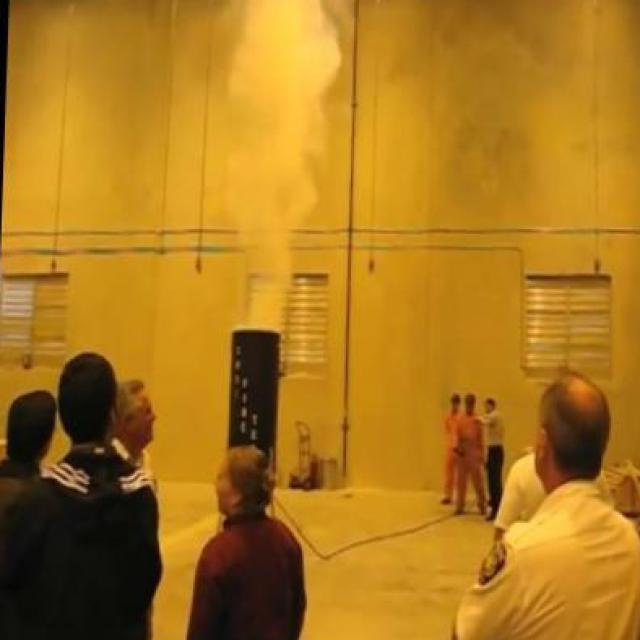fire: (218, 0, 351, 315)
